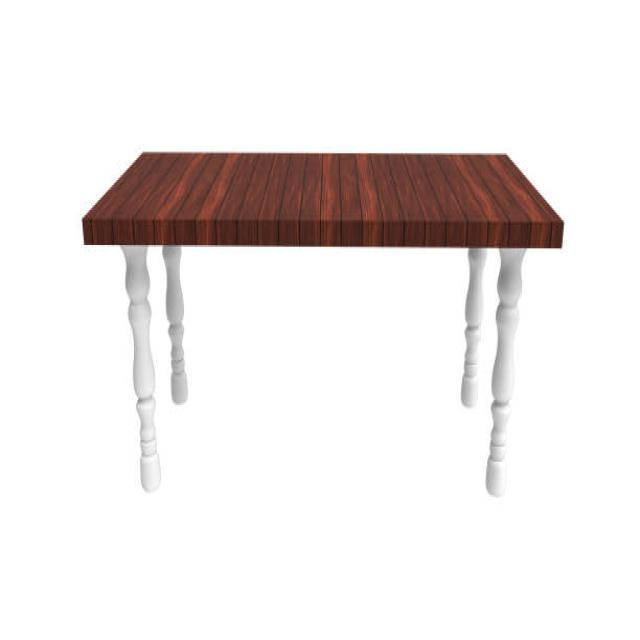table: (81, 148, 564, 497)
